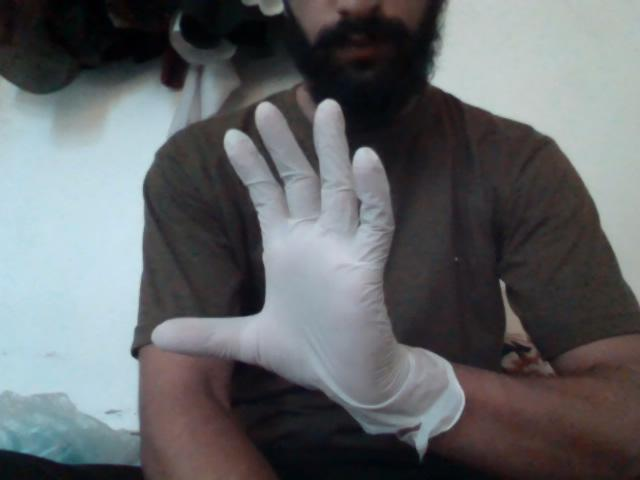gloves: (162, 92, 488, 460)
